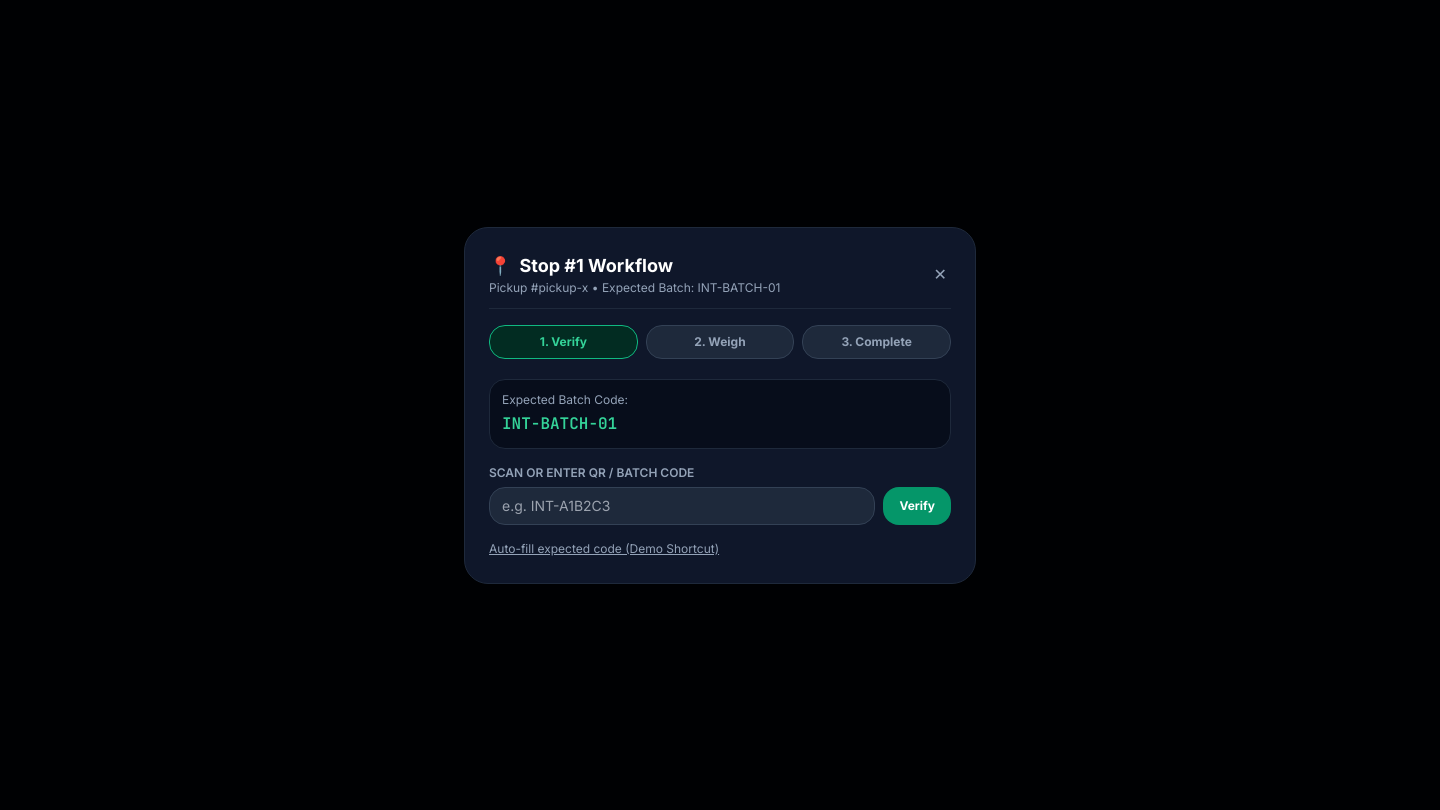
Test: DriverStopDetailModal Component › calculates net weight accurately from gross and tare weights
The width and height of the screenshot is (1440, 810).
// Switch to weigh tab directly
Click the button "2. Weigh" at (720, 342), box x1=646 y1=324 x2=794 y2=358
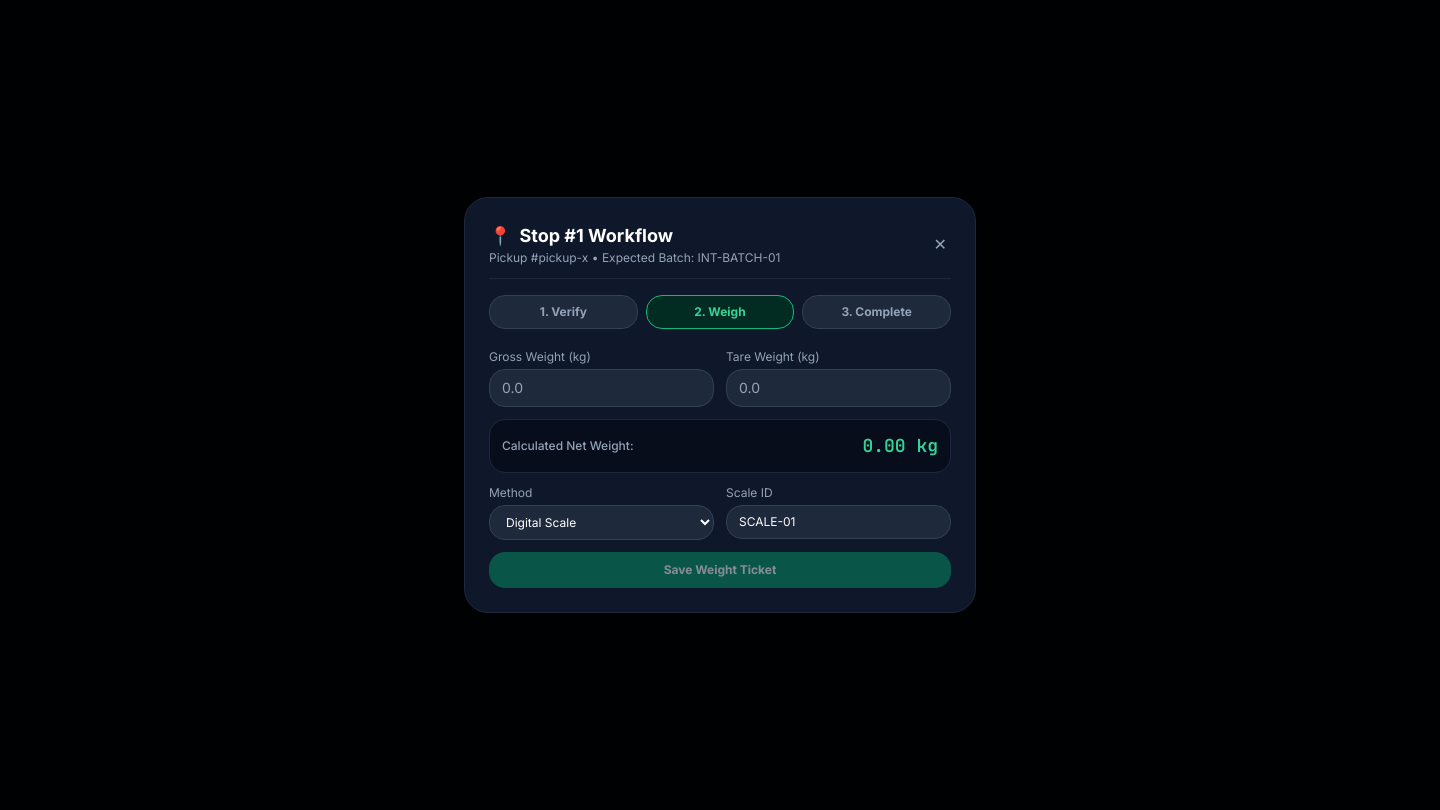
Type "350.5" into the number field with placeholder "0.0" below "Gross Weight (kg)" at (602, 388), box x1=489 y1=369 x2=714 y2=407
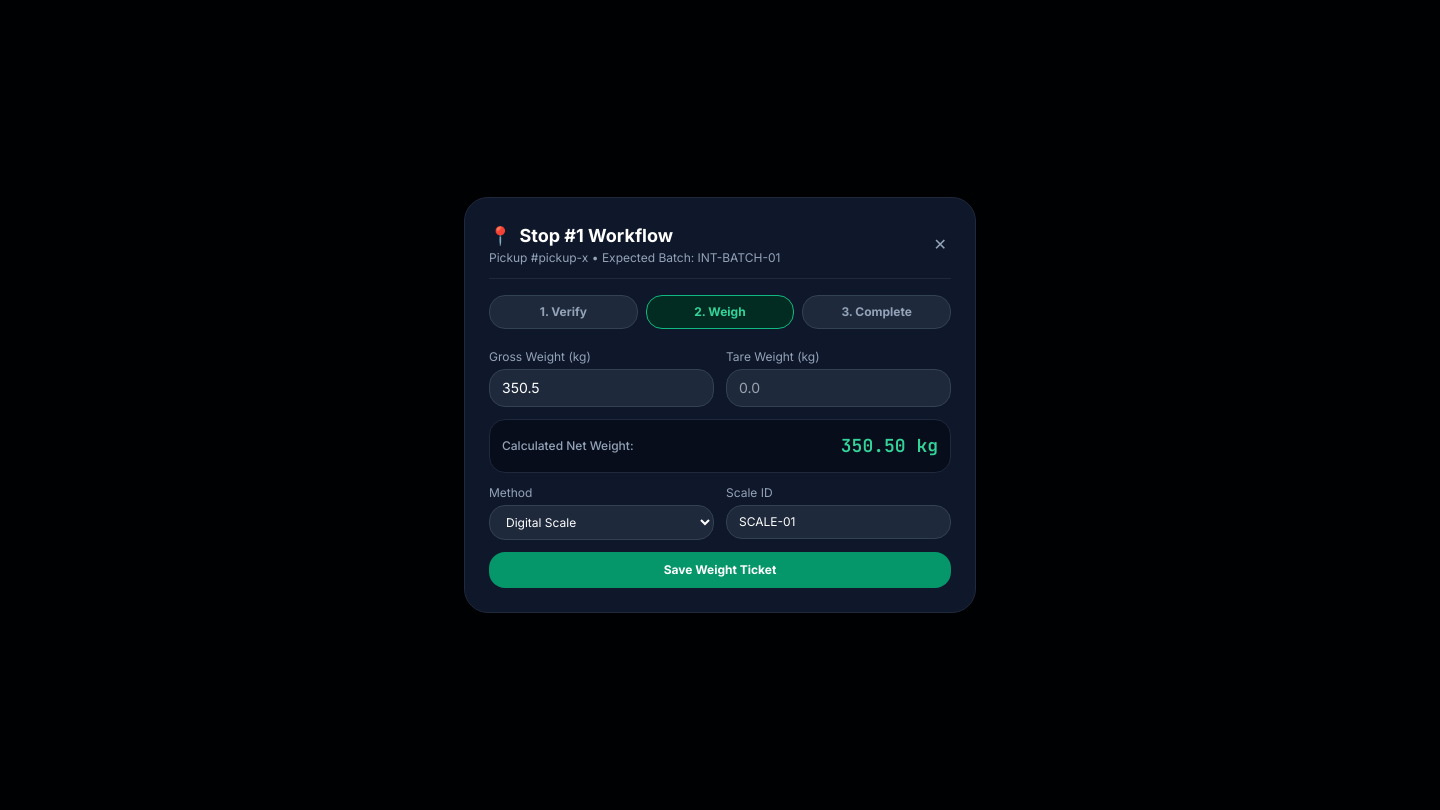
Type "50.5" into the number field with placeholder "0.0" at (838, 388), box x1=726 y1=369 x2=951 y2=407
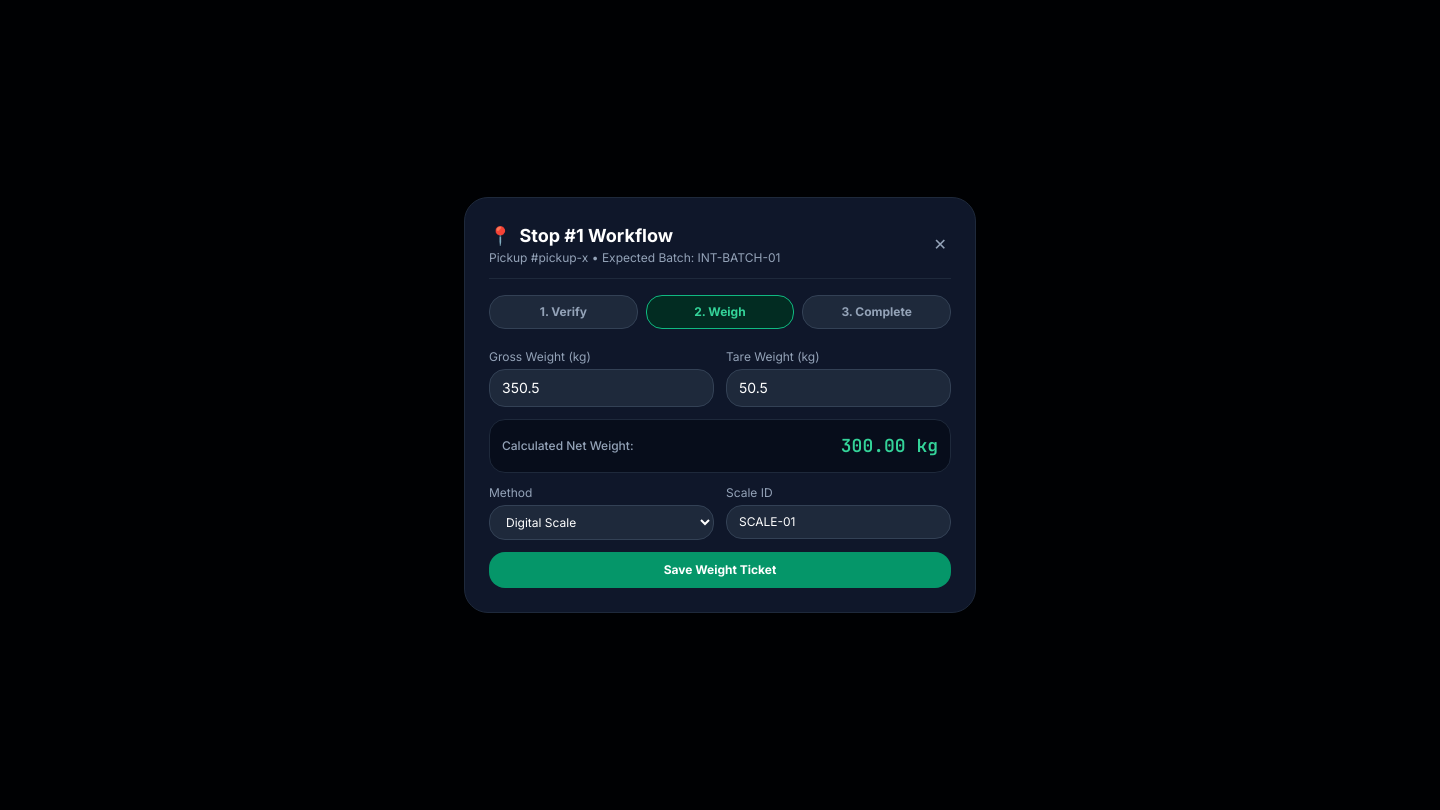
Result: the text "300.00 kg" is shown at x1=841 y1=432 x2=938 y2=460
